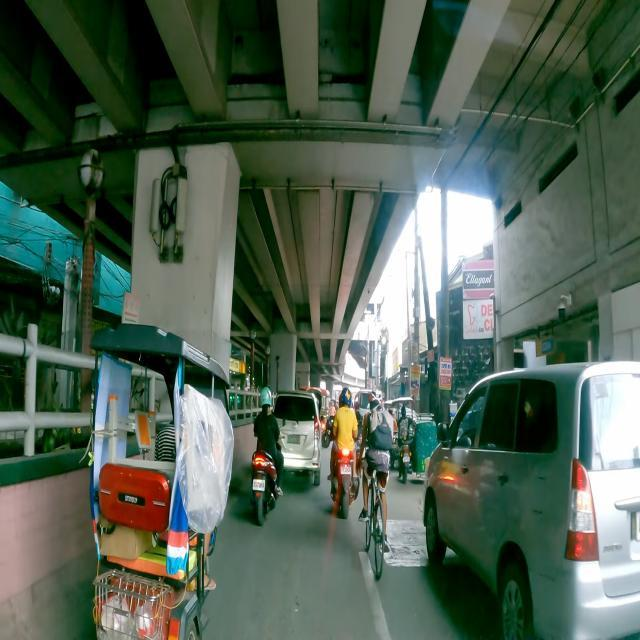bike: (358, 394, 393, 580)
car: (423, 362, 640, 640), (274, 390, 322, 486)
jeepney: (299, 385, 328, 437)
motorcycle: (252, 387, 284, 526), (329, 387, 358, 518)
tricycle: (90, 324, 234, 640), (391, 398, 438, 482)
